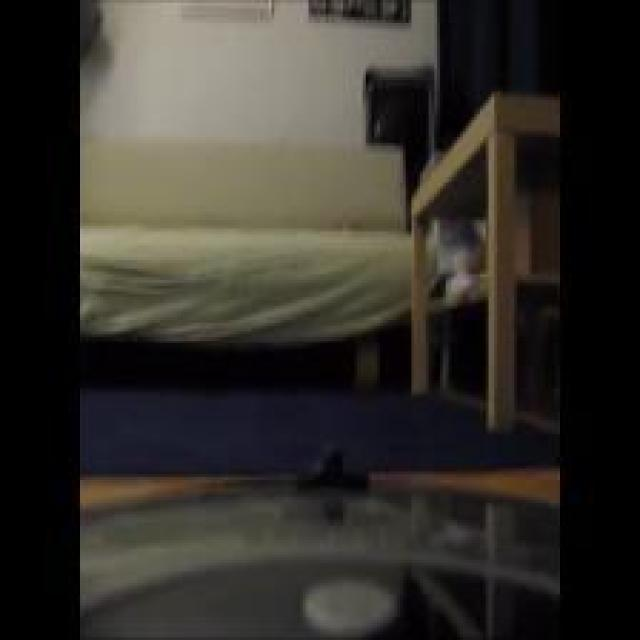other: (71, 104, 467, 338)
